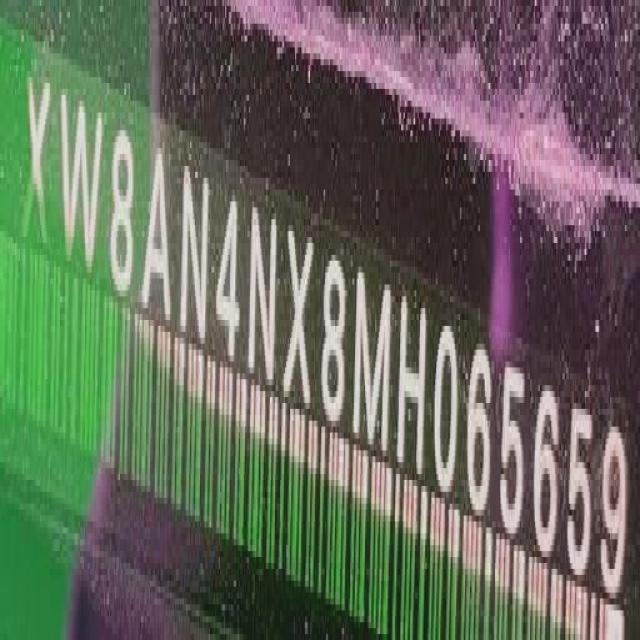0: (433, 318, 459, 497)
4: (214, 184, 242, 370)
5: (566, 401, 592, 587), (502, 354, 528, 538)
6: (532, 374, 560, 560), (465, 341, 491, 524)
8: (320, 255, 350, 439), (112, 122, 136, 302)
9: (601, 423, 630, 604)
A: (144, 138, 174, 331)
H: (398, 290, 428, 477)
M: (356, 270, 394, 456)
N: (248, 200, 280, 389), (182, 166, 212, 349)
W: (59, 84, 102, 281)
X: (284, 216, 318, 416), (24, 66, 51, 260)
